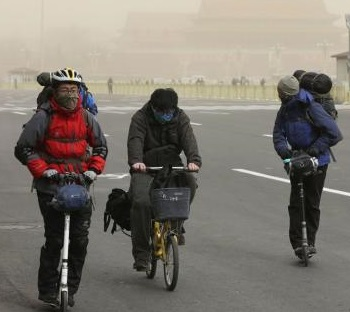person: (11, 64, 111, 309), (105, 84, 203, 294), (270, 68, 345, 268), (107, 77, 114, 95)
